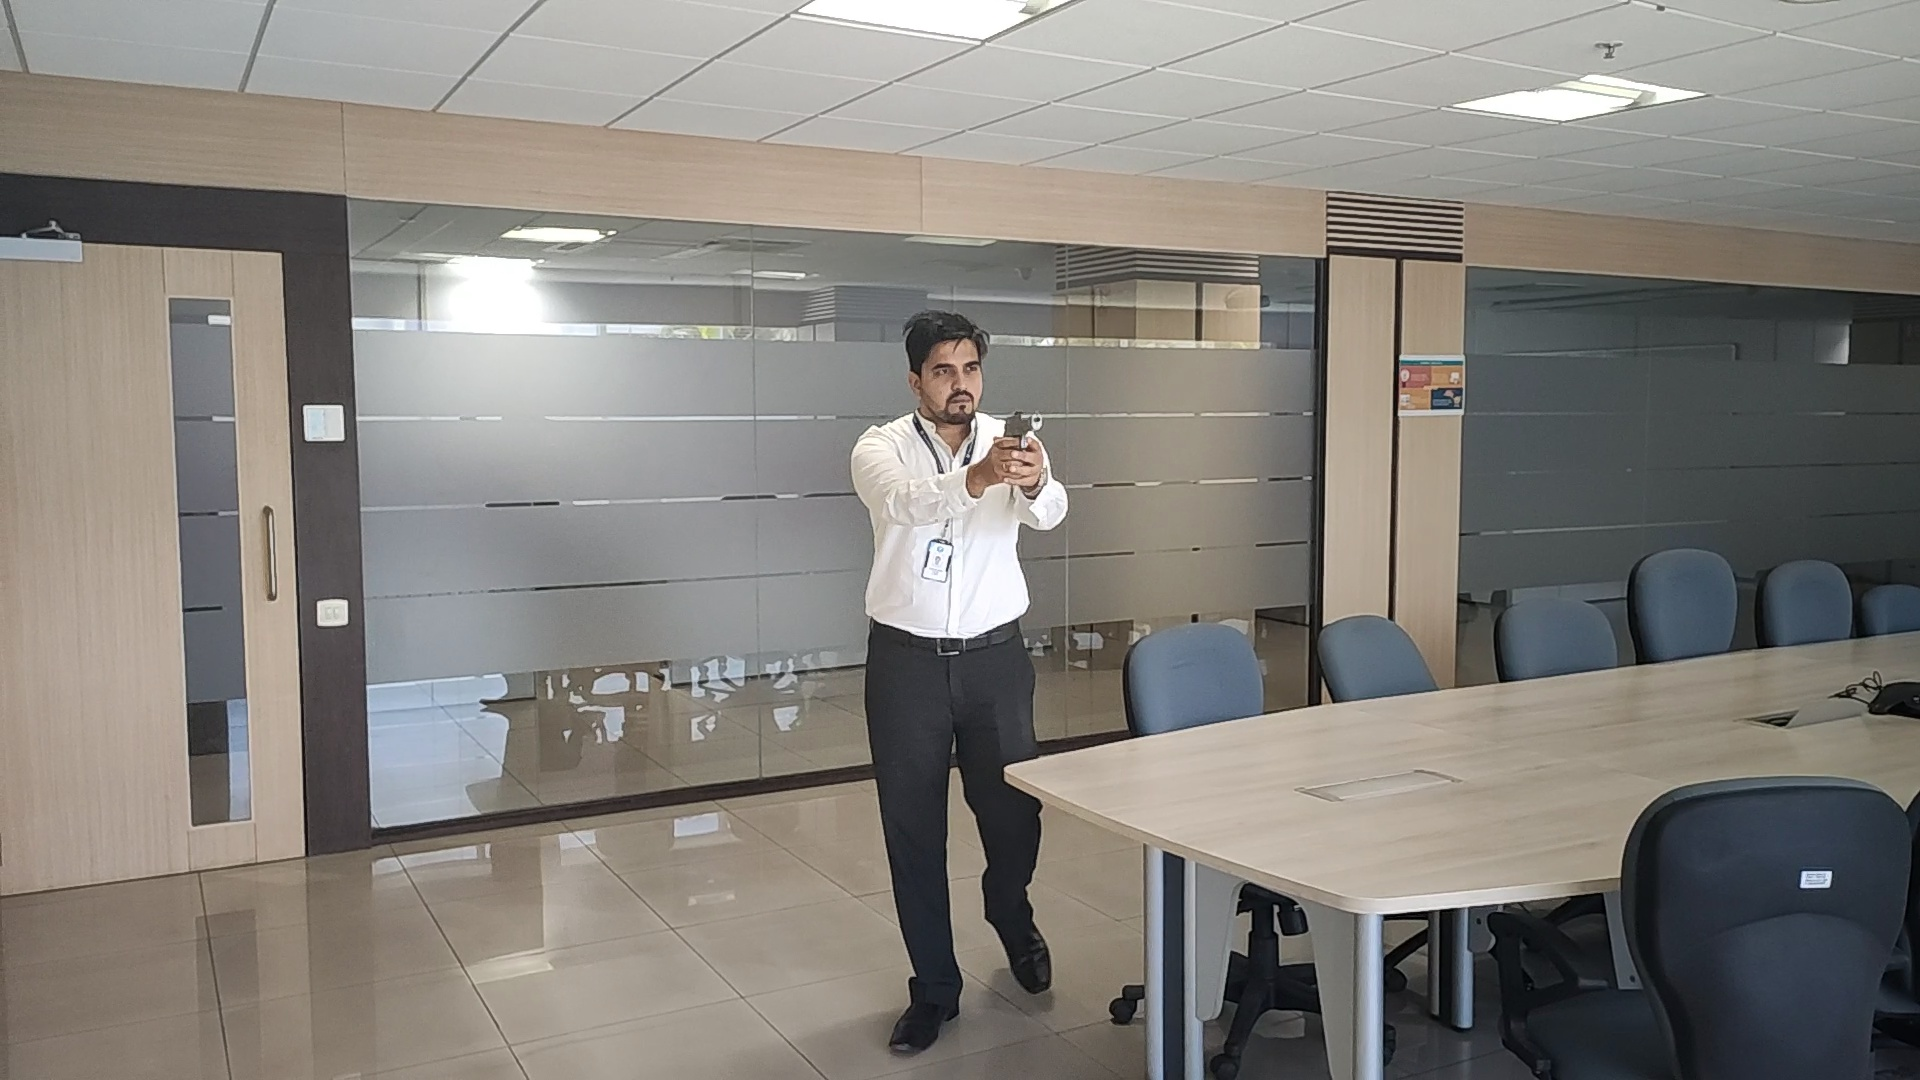gun: (1002, 411, 1042, 448)
